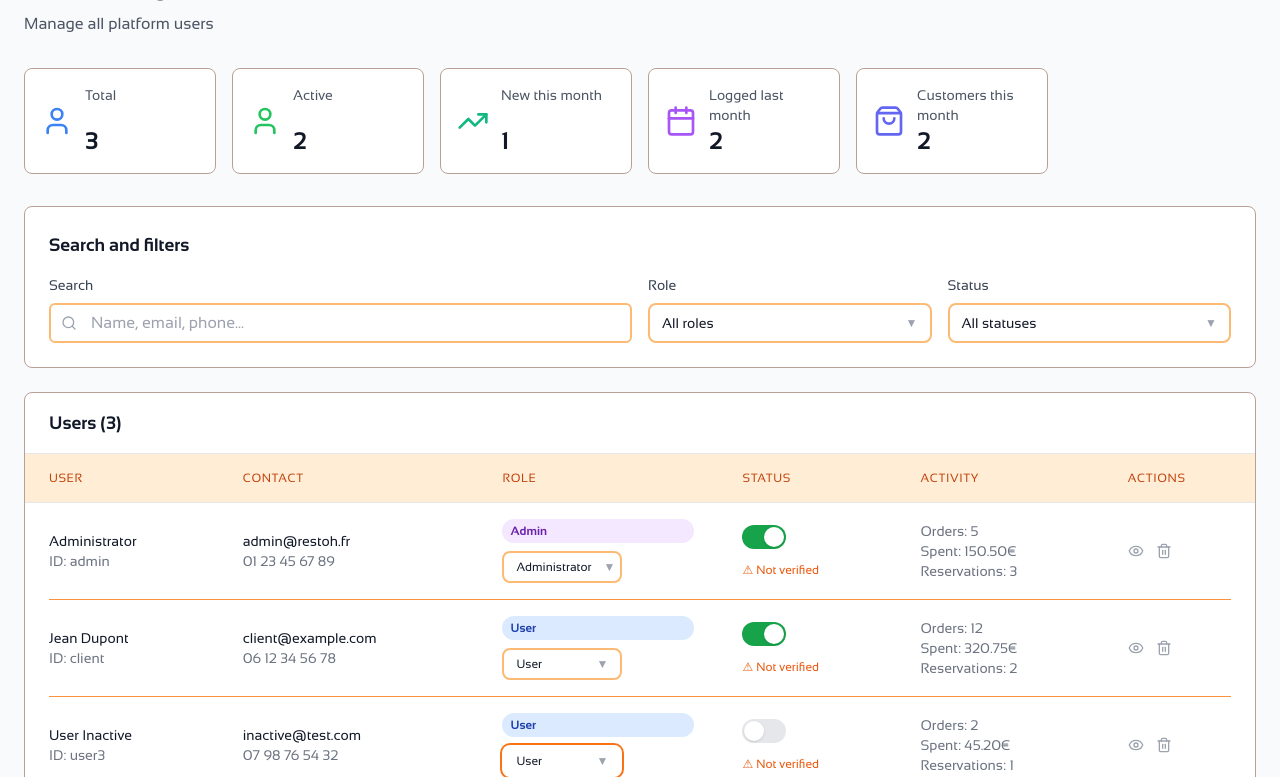
Test: UsersManagement Component › Search Functionality › should filter users by search query (email)
(page scrolled)
Type "admin@restoh" into the field with placeholder "Name, email, phone...". click: (340, 323)
box: [49, 303, 632, 343]
(page scrolled)
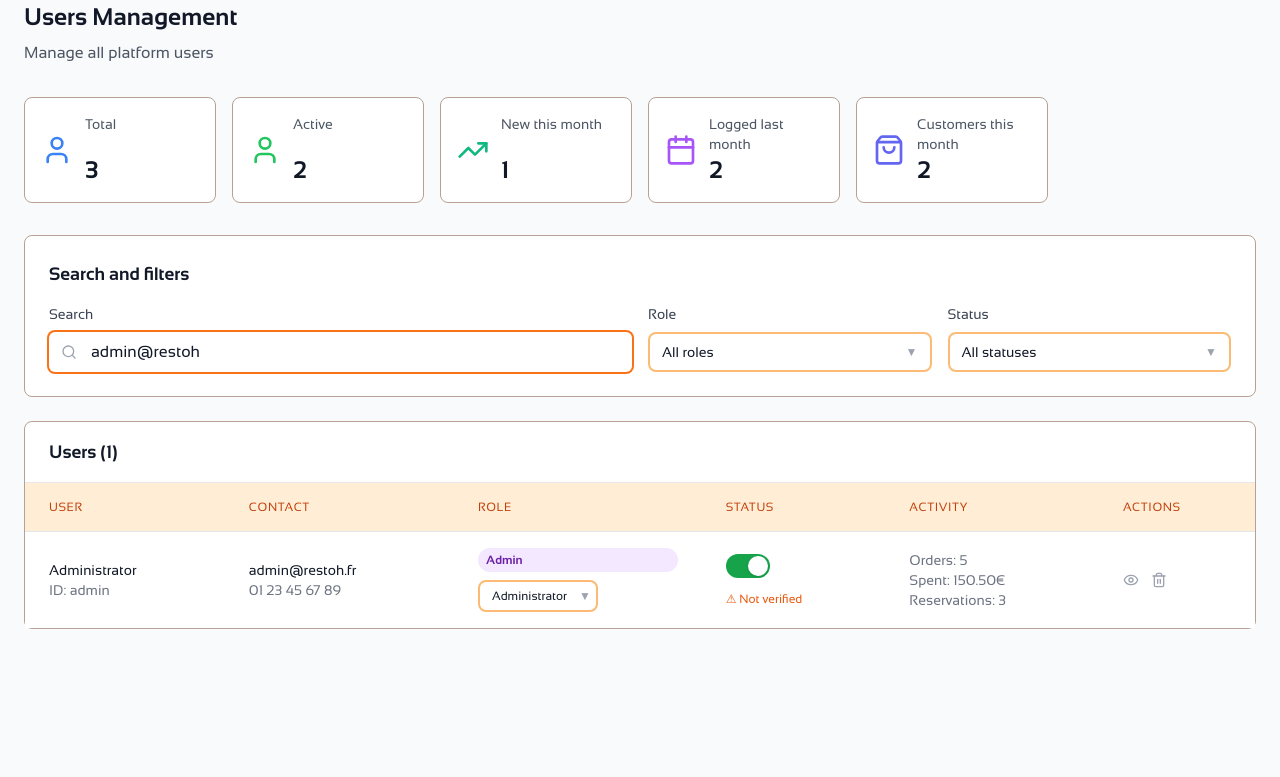
Result: the text "admin@restoh.fr" is shown 2 times
Result: the text "client@example.com" is gone
Result: the text "inactive@test.com" is gone
